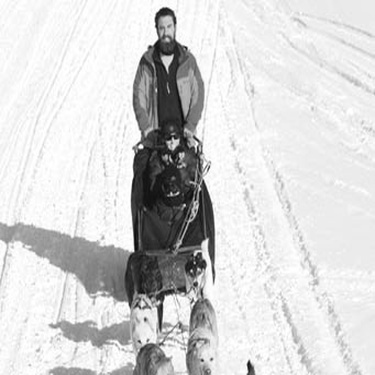dog: (176, 246, 211, 306), (137, 267, 165, 335), (185, 317, 220, 371), (128, 342, 180, 373), (187, 296, 221, 342), (126, 289, 163, 326), (123, 247, 161, 278), (127, 323, 161, 351), (240, 354, 259, 373)
